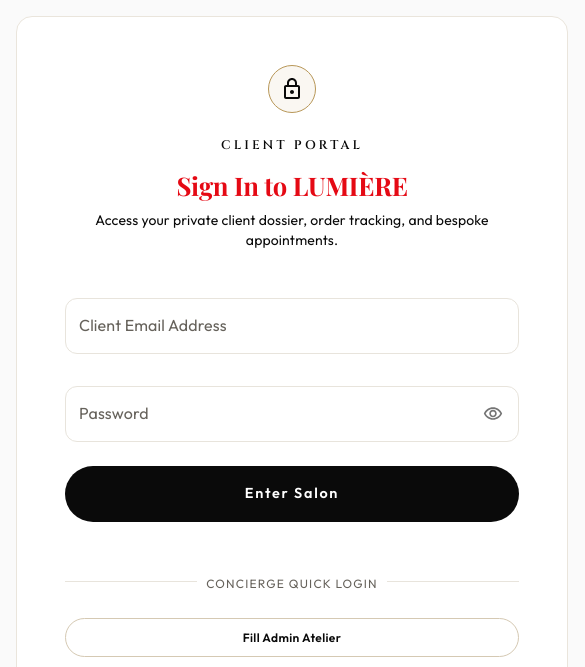
it: Stage 7B.5: Fail-Closed Authentication & Protected Route Security › 1. HTTP 503 during login leaves the user unauthenticated and shows service unavailable error
Type "admin@ecommerce.com" into the field labelled "Client Email Address" at (292, 326), box left=65, top=298, right=519, bottom=354
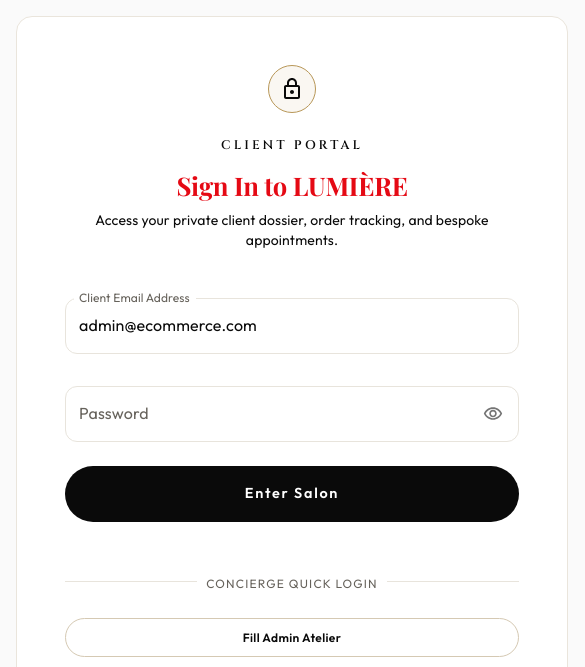
Type "admin123" into the password field labelled "Password" at (268, 414), box left=65, top=386, right=470, bottom=442
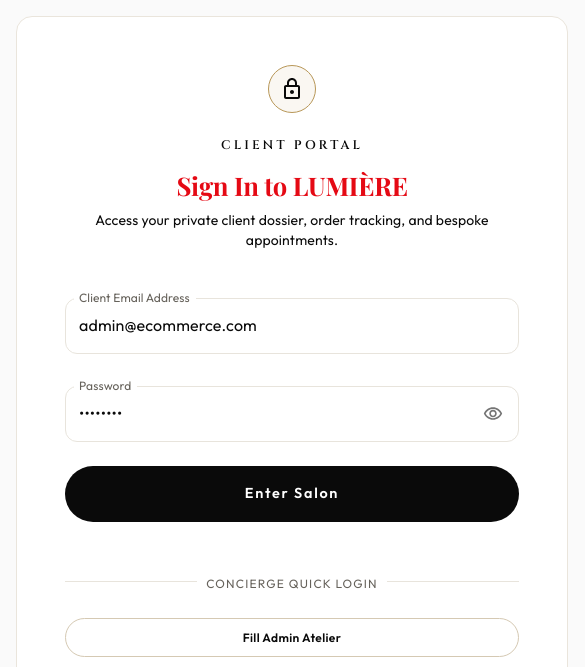
Click the button "Enter Salon" at (292, 494), box left=65, top=466, right=519, bottom=522
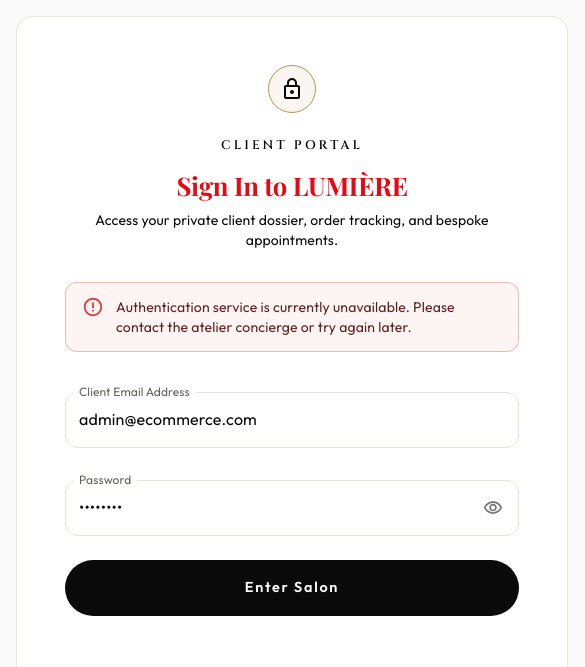
expect the text "Authentication service is currently unavailable" is shown: met, box left=116, top=298, right=455, bottom=336
